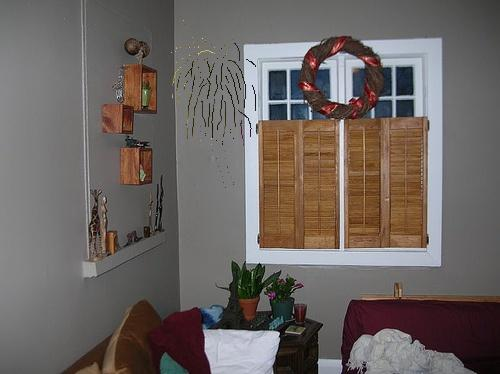tampered: (170, 21, 256, 189)
